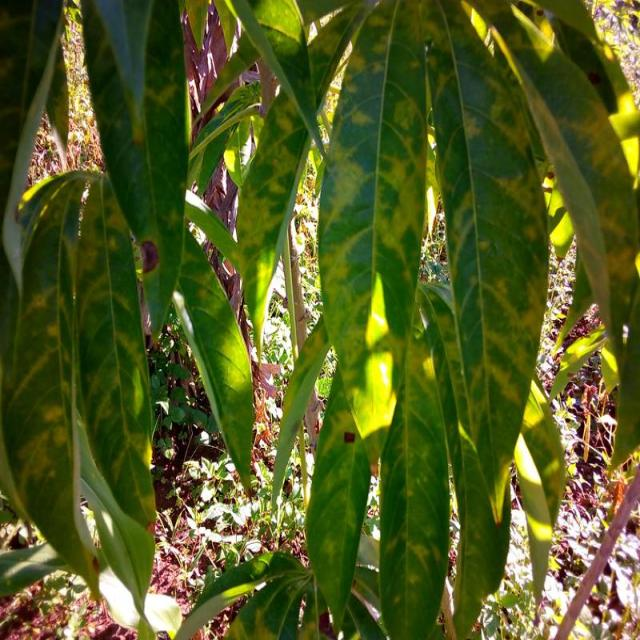cassava leaf: (2, 0, 640, 638), (3, 167, 158, 632), (317, 0, 431, 464)
